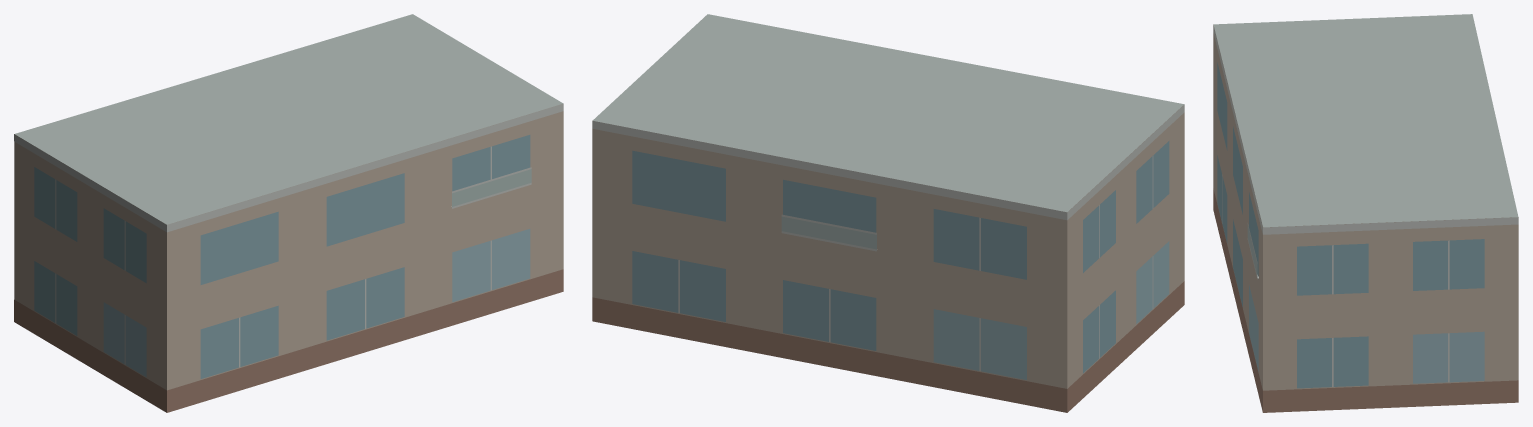
Rendered from survey-upis-32621814.glb.
3 views of the same model, side by side, from view 1: azimuth 30°, elevation 25°; view 2: azimuth 150°, elevation 25°; view 3: azimuth 270°, elevation 25° (orthographic). The views are drawn at different scales.
Visible parts, largest first — view 1: survey-upis-32621814.tmp; view 2: survey-upis-32621814.tmp; view 3: survey-upis-32621814.tmp.
Boxes of the visible parts, x1=… form: survey-upis-32621814.tmp: x1=14, y1=14, x2=563, y2=412; survey-upis-32621814.tmp: x1=592, y1=14, x2=1184, y2=412; survey-upis-32621814.tmp: x1=1213, y1=14, x2=1518, y2=412.
Bounding box in the file's own units: 15.06 × 6.1 × 9.1.
